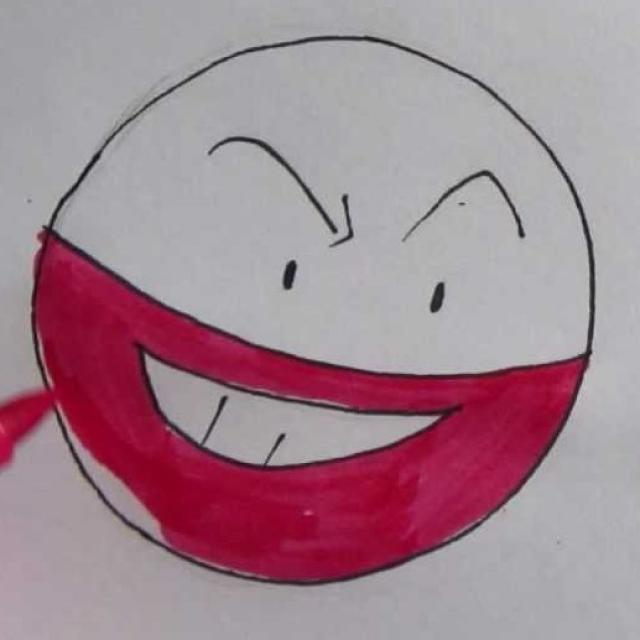Electrode: (34, 39, 599, 587)
